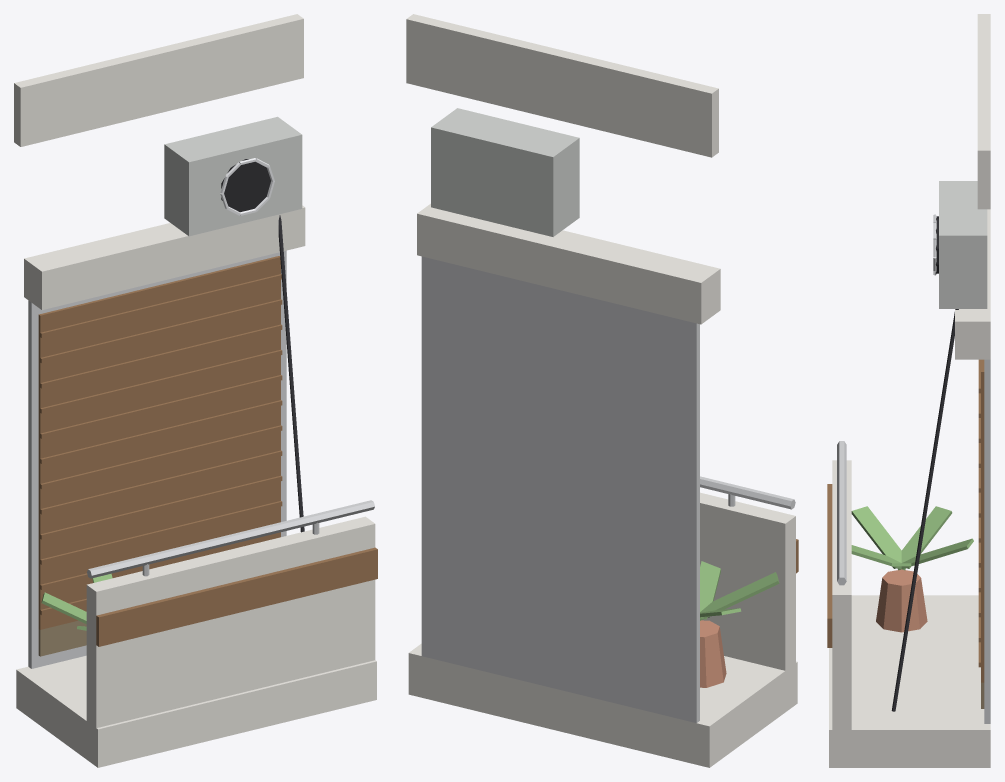
The model's file is HJ_Fachada_B.fbx.
The picture shows the model from 3 angles, left to right: view 1: azimuth 30°, elevation 25°; view 2: azimuth 150°, elevation 25°; view 3: azimuth 270°, elevation 25°; orthographic projection. The views are drawn at different scales.
Visible parts, largest first — view 1: HJ_Fachada_B; view 2: HJ_Fachada_B; view 3: HJ_Fachada_B.
Part boxes in pixels (bbox=[...]): HJ_Fachada_B: bbox=[14, 14, 377, 767]; HJ_Fachada_B: bbox=[406, 14, 798, 767]; HJ_Fachada_B: bbox=[827, 14, 990, 767].
Bounding box in the file's own units: 2 × 4.22 × 1.01.
